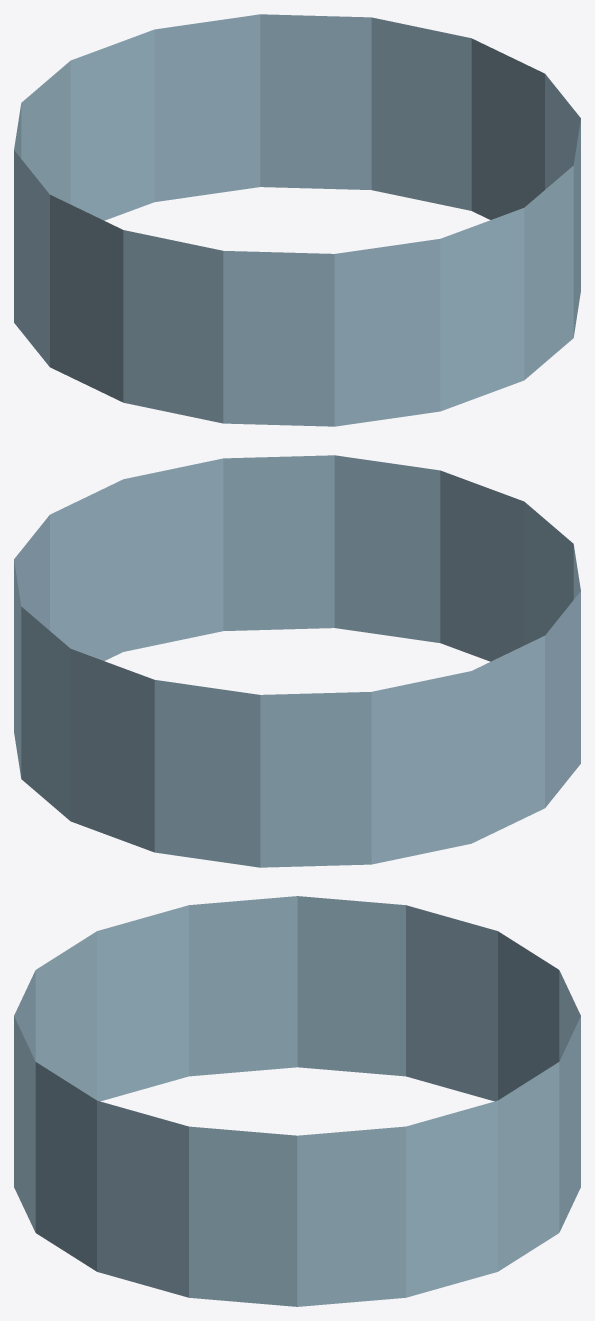
The model's file is modulo_torre_antena_01.fbx.
The picture shows the model from 3 angles, top to bottom: view 1: azimuth 30°, elevation 25°; view 2: azimuth 150°, elevation 25°; view 3: azimuth 270°, elevation 25°; orthographic projection.
Visible parts, largest first — view 1: Módulo_torre_antena; view 2: Módulo_torre_antena; view 3: Módulo_torre_antena.
Part boxes in pixels (x1,y1,x2,y2): Módulo_torre_antena: (14,14,580,426); Módulo_torre_antena: (14,455,580,867); Módulo_torre_antena: (14,896,580,1306).
Bounding box in the file's own units: 600 × 200 × 600.
